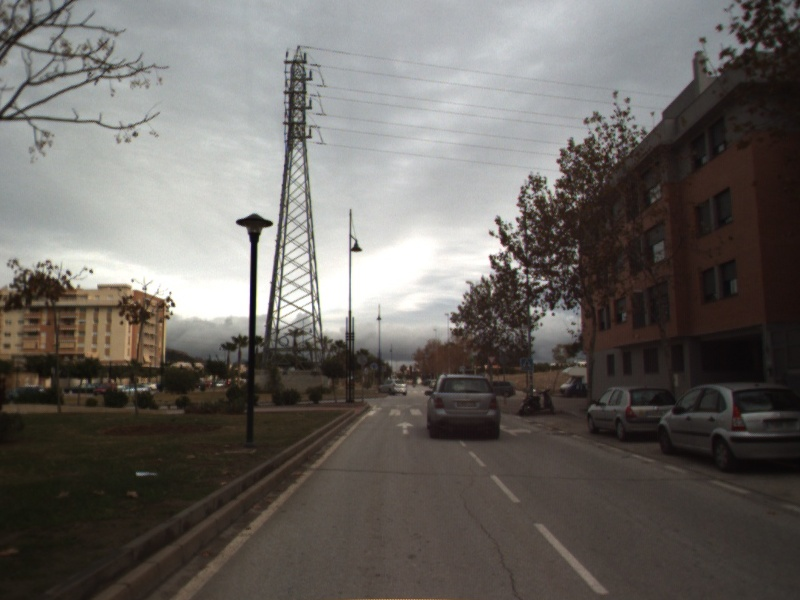STRAIGHT: (395, 419, 416, 436)
STRAIGHT_RIGHT: (499, 423, 533, 438)
